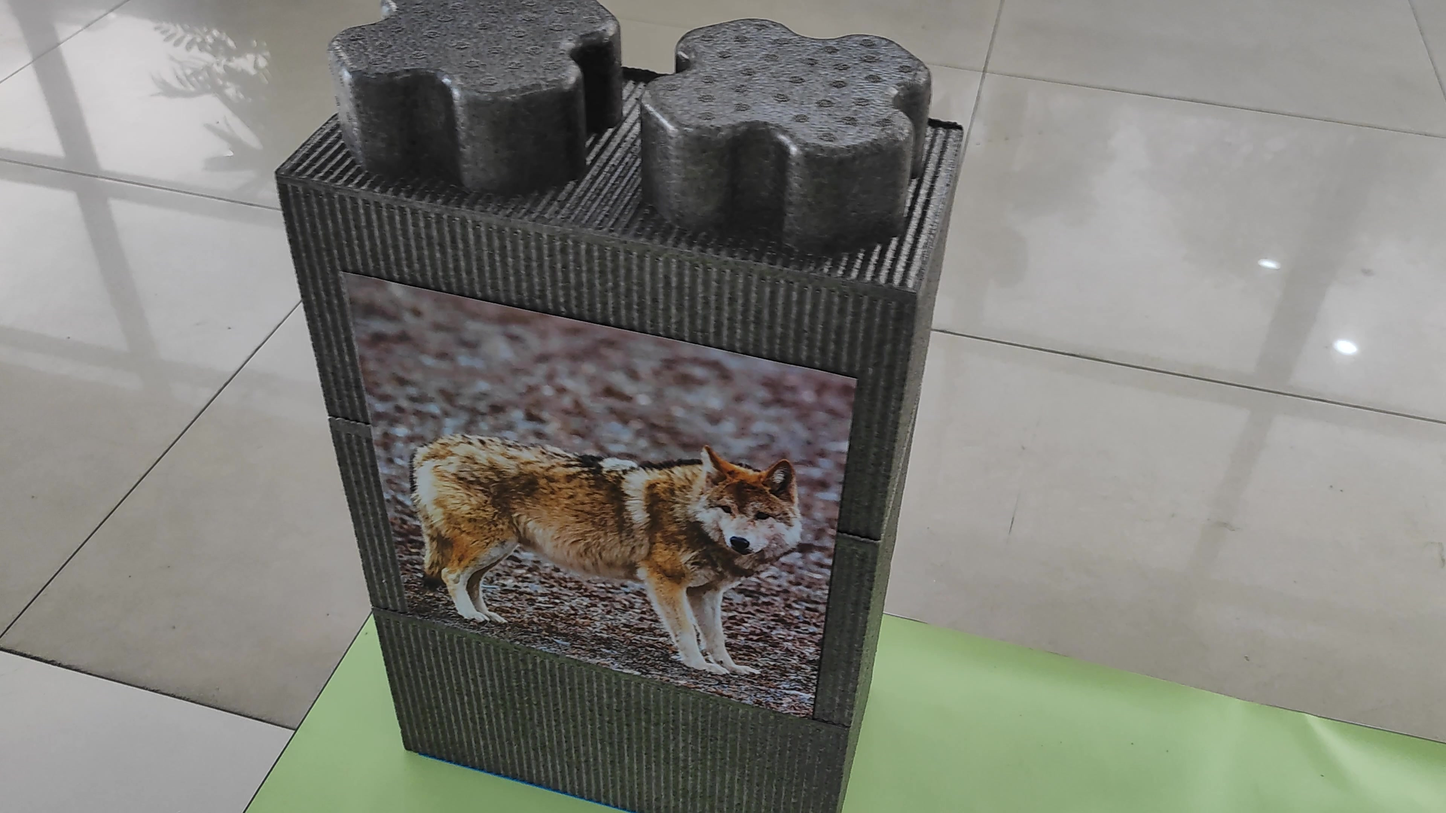wolf: (386, 381, 804, 684)
